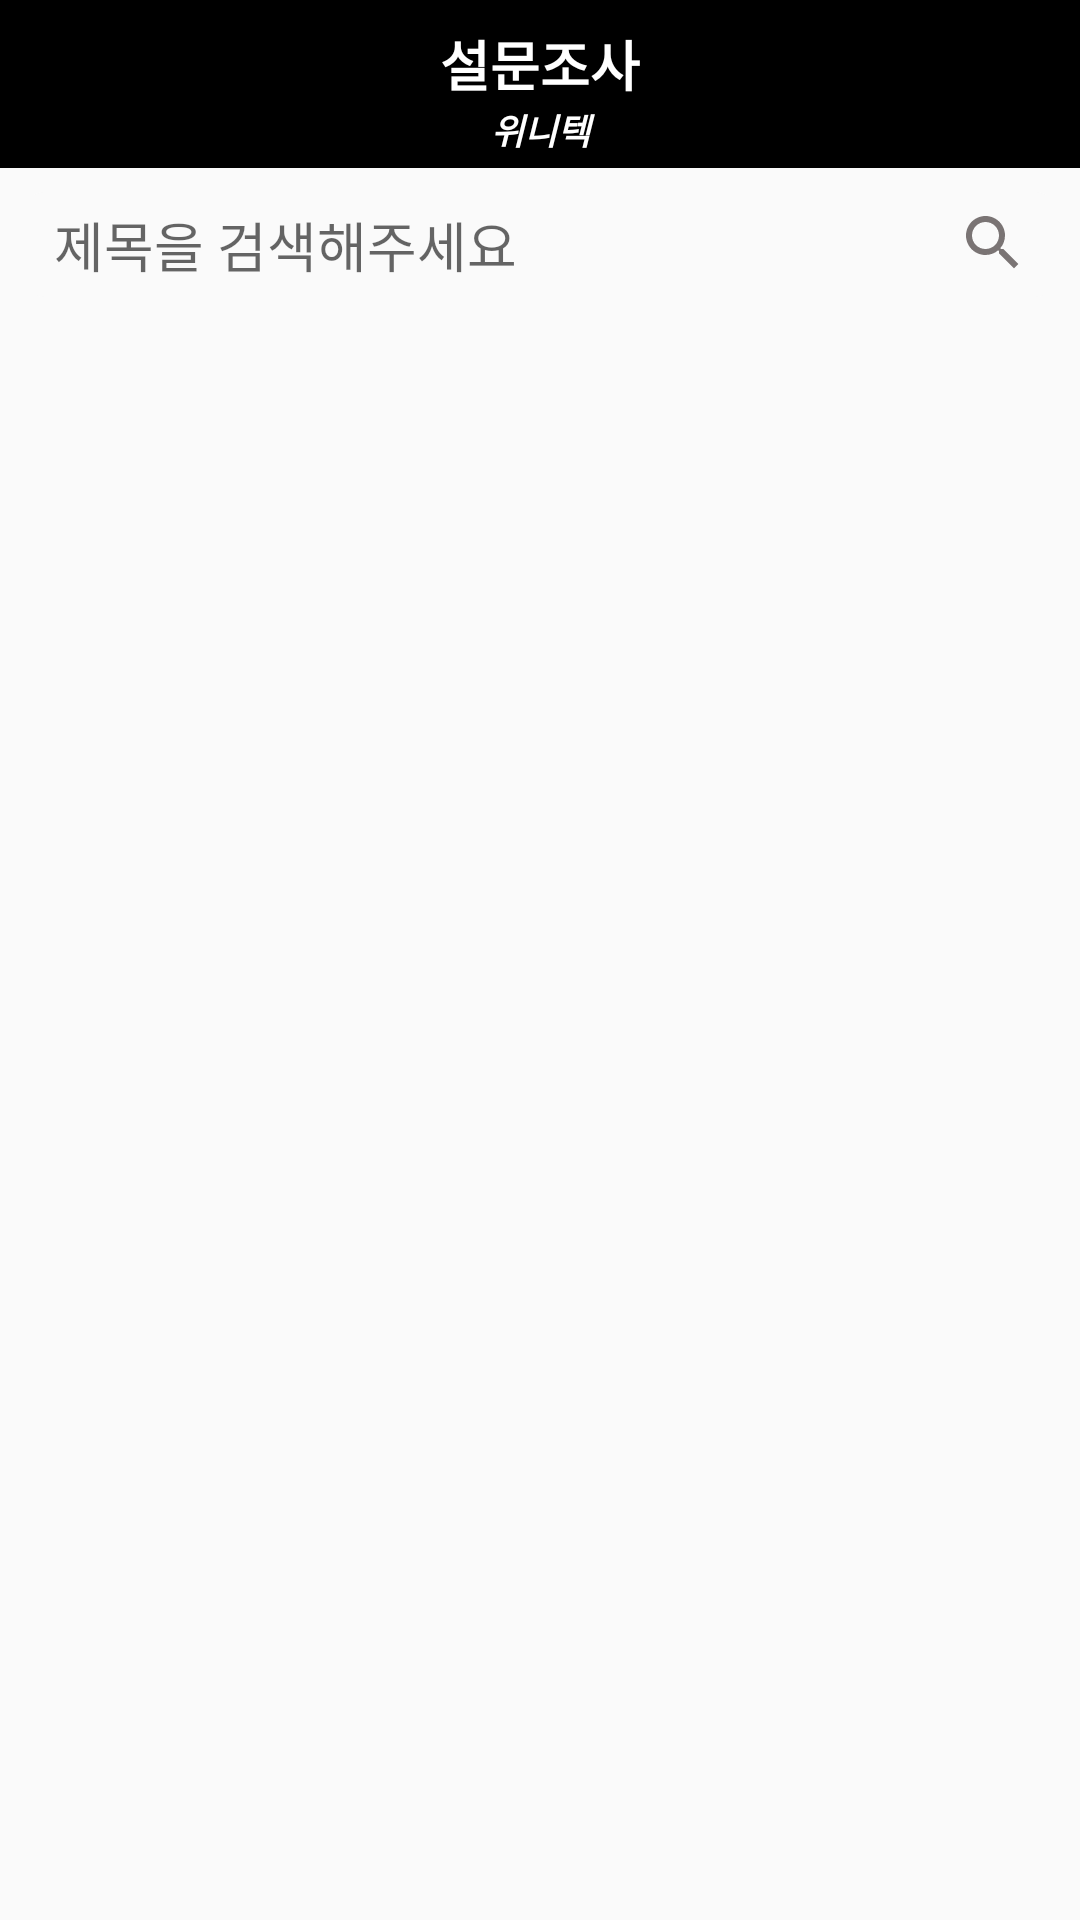

Point at icon controls on the screen. Image size 1080*1920, points as (x=x, y=y).
search: (x=992, y=242)
